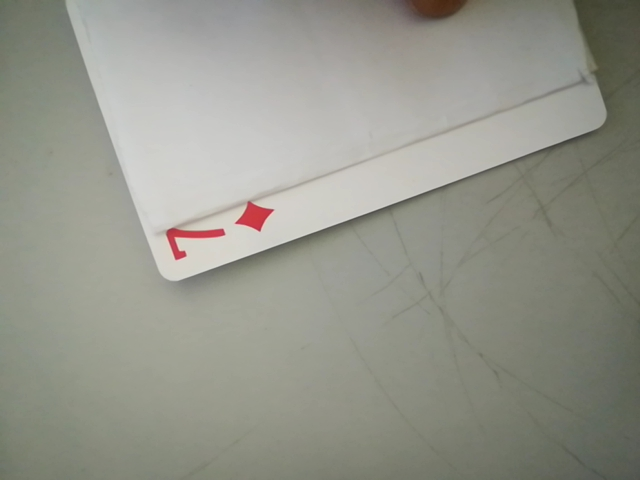fk 7: (156, 202, 281, 268)
